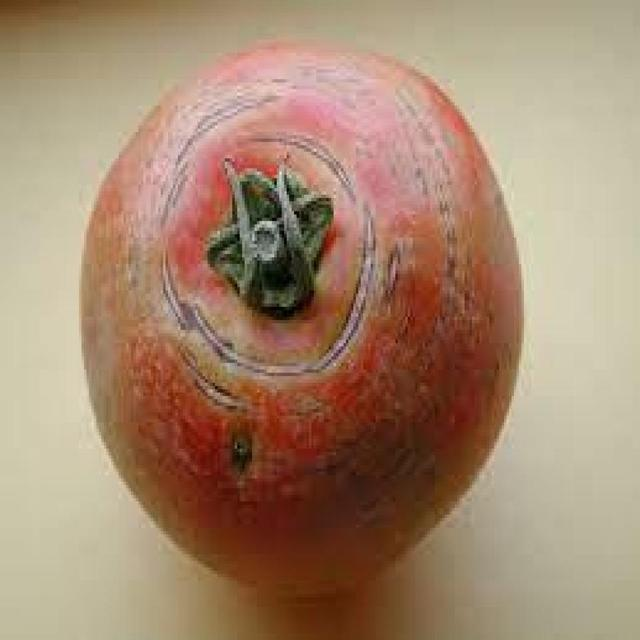Cracking Fruit: (36, 50, 284, 252)
